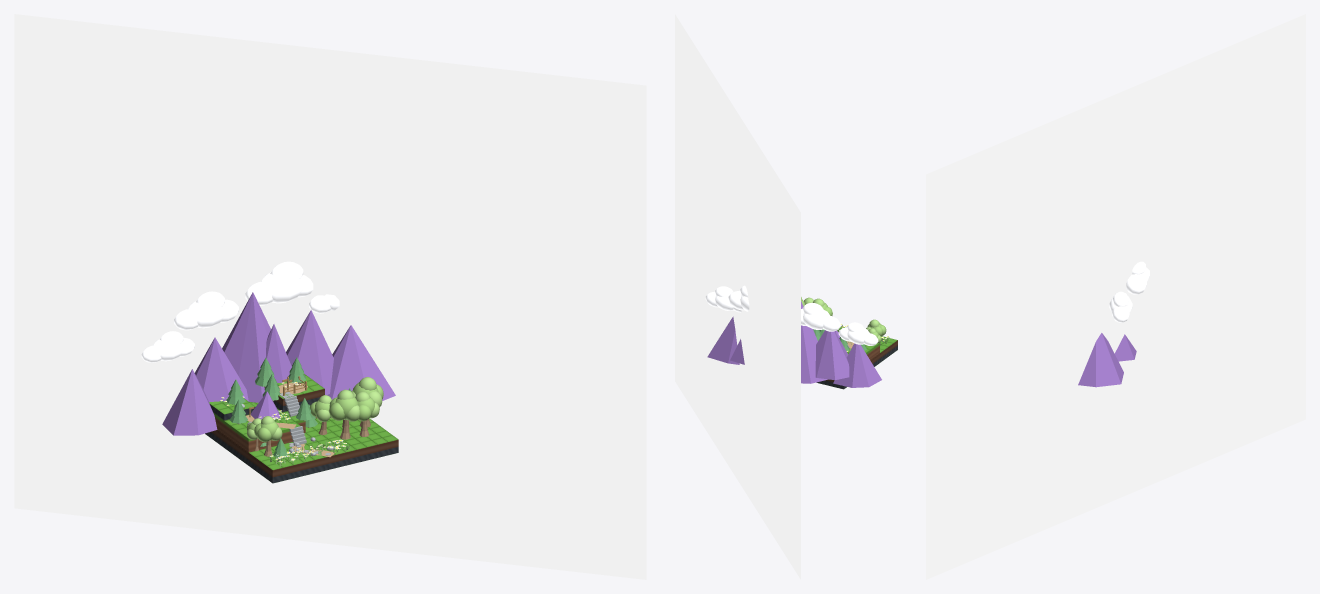
Rendered from map_25d.glb.
3 views of the same model, side by side, from view 1: azimuth 30°, elevation 25°; view 2: azimuth 150°, elevation 25°; view 3: azimuth 270°, elevation 25° (orthographic). The views are drawn at different scales.
Parts seen in each view (by area): view 1: SM_Sky_Backdrop_Plane, SM_Mountains_Background, SM_Terrain_Chunk, SM_Cloud_02, SM_Cloud_01, SM_Cloud_03, SM_Tree_Deciduous_01; view 2: SM_Sky_Backdrop_Plane, SM_Mountains_Background, SM_Cloud_01, SM_Terrain_Chunk, SM_Cloud_03, SM_Cloud_04, SM_Cloud_02; view 3: SM_Sky_Backdrop_Plane, SM_Mountains_Background, SM_Cloud_02, SM_Cloud_04.
Boxes of the visible parts, x1,y1,x2,y2 form: SM_Sky_Backdrop_Plane: (14,14,646,579); SM_Mountains_Background: (162,292,395,435); SM_Terrain_Chunk: (205,374,398,483); SM_Cloud_02: (245,261,313,305); SM_Cloud_01: (174,291,238,330); SM_Cloud_03: (141,331,194,362); SM_Tree_Deciduous_01: (329,389,359,439); SM_Sky_Backdrop_Plane: (675,14,800,579); SM_Mountains_Background: (707,301,881,387); SM_Cloud_01: (801,302,840,331); SM_Terrain_Chunk: (816,326,897,389); SM_Cloud_03: (838,322,878,345); SM_Cloud_04: (705,286,741,312); SM_Cloud_02: (728,285,749,311); SM_Sky_Backdrop_Plane: (926,14,1305,579); SM_Mountains_Background: (1078,333,1136,387); SM_Cloud_02: (1126,261,1149,294); SM_Cloud_04: (1109,291,1132,322).
Bounding box in the file's own units: 38.18 × 45 × 38.18.
Materials: 16 (2 with a texture image).
